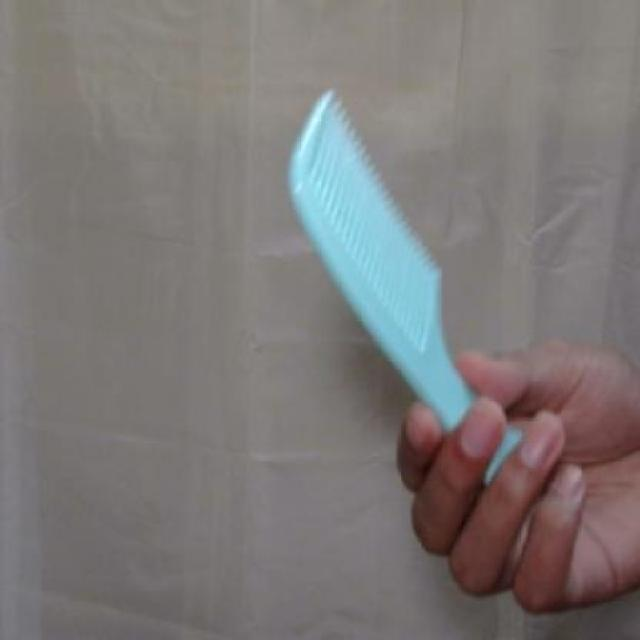Plastic: (276, 74, 541, 513)
